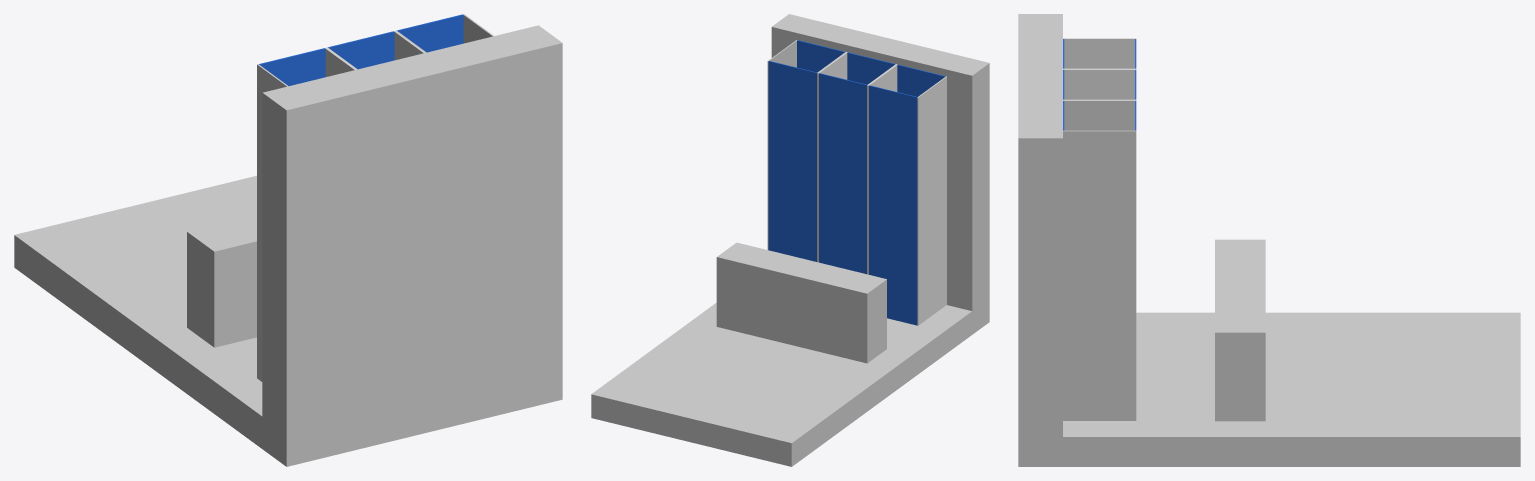
Rendered from BG_Store.fbx.
3 renders of one model, left to right at view 1: azimuth 30°, elevation 25°; view 2: azimuth 150°, elevation 25°; view 3: azimuth 270°, elevation 25°, orthographic. The views are drawn at different scales.
Parts seen in each view (by area): view 1: Cube.003, Cube.004, Cube.005, Cube.001, Cube.002; view 2: Cube.003, Cube.005, Cube.004, Cube.001, Cube.002; view 3: Cube.003, Cube.001, Cube.004, Cube.002, Cube.005.
Part boxes in pixels (<box>): Cube.003: <box>14,25,562,466</box>; Cube.004: <box>187,214,256,347</box>; Cube.005: <box>257,48,355,381</box>; Cube.001: <box>395,14,493,52</box>; Cube.002: <box>326,31,424,69</box>; Cube.003: <box>591,14,989,466</box>; Cube.005: <box>868,64,946,325</box>; Cube.004: <box>716,242,886,363</box>; Cube.001: <box>767,40,846,262</box>; Cube.002: <box>818,52,896,274</box>; Cube.003: <box>1018,14,1520,466</box>; Cube.001: <box>1063,100,1136,420</box>; Cube.004: <box>1215,239,1265,421</box>; Cube.002: <box>1063,69,1136,100</box>; Cube.005: <box>1063,38,1136,69</box>.
Bounding box in the file's own units: 12 × 14.81 × 20.51.
